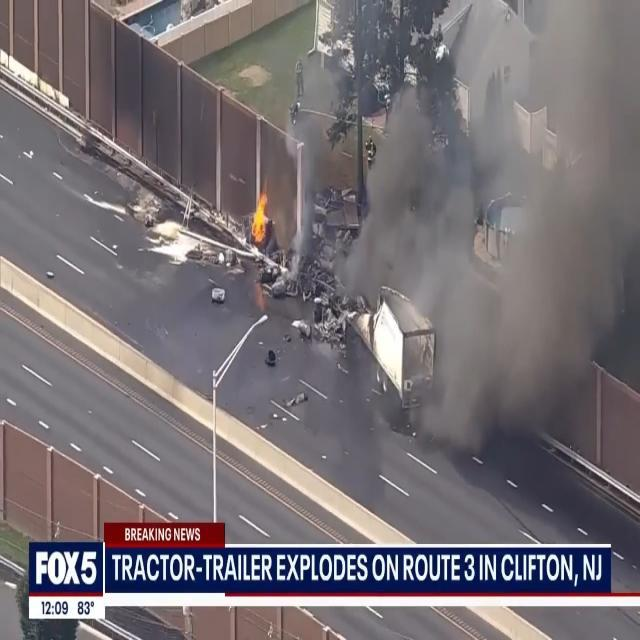fire: (247, 186, 271, 247)
